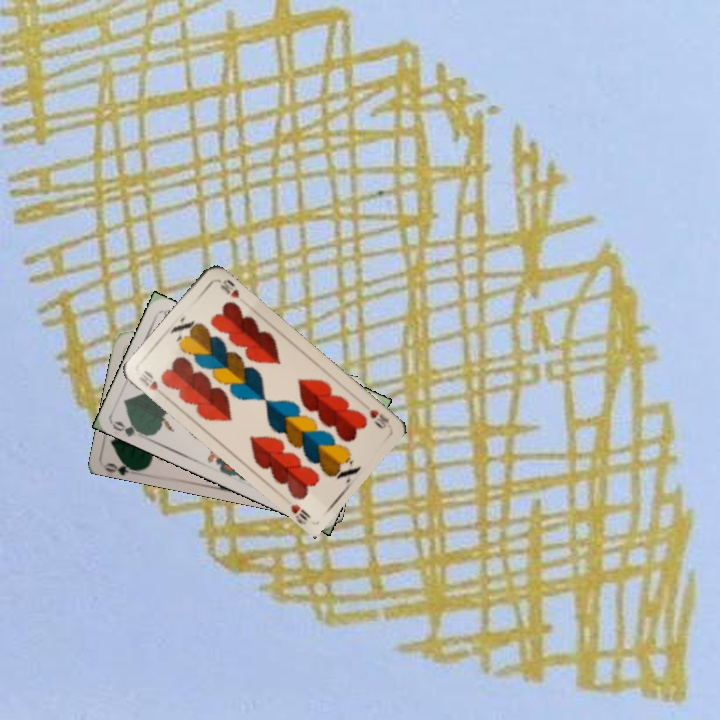GO: (109, 417, 149, 439), (102, 454, 143, 475)
H10: (135, 366, 169, 400), (366, 405, 392, 431)
